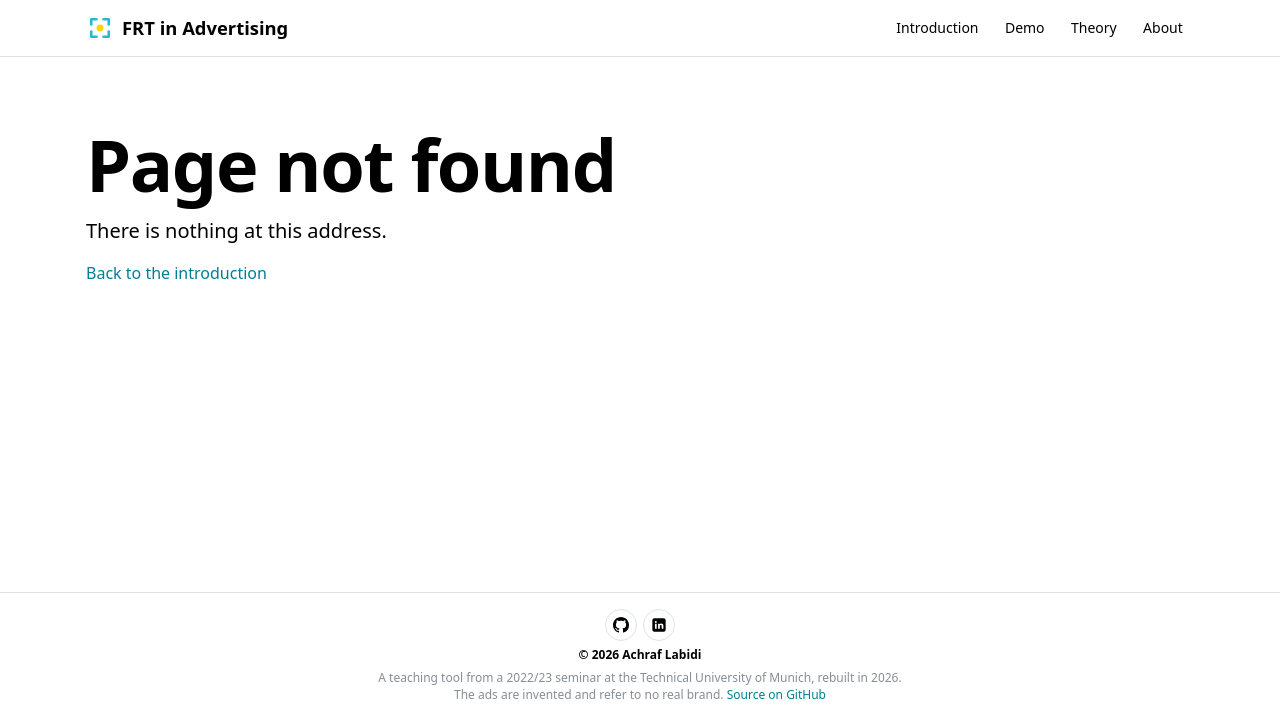
site shell › says so when a page does not exist, and offers the way home
The width and height of the screenshot is (1280, 719).
Expected: the heading "Page not found" is shown, [86,115,616,213]
Click the link "Back to the introduction" at (176, 272), box [86,262,267,284]
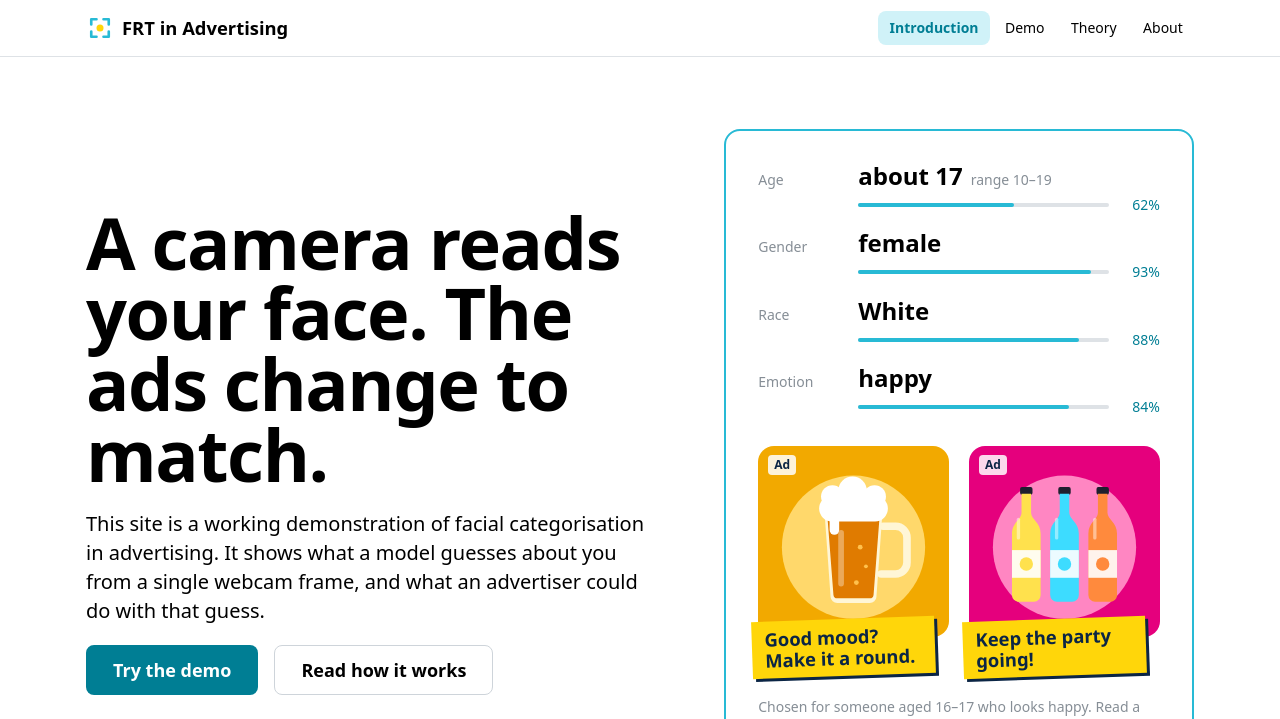
Now the heading "A camera reads your face. The ads change to match." is shown, box [86,207,660,489]
